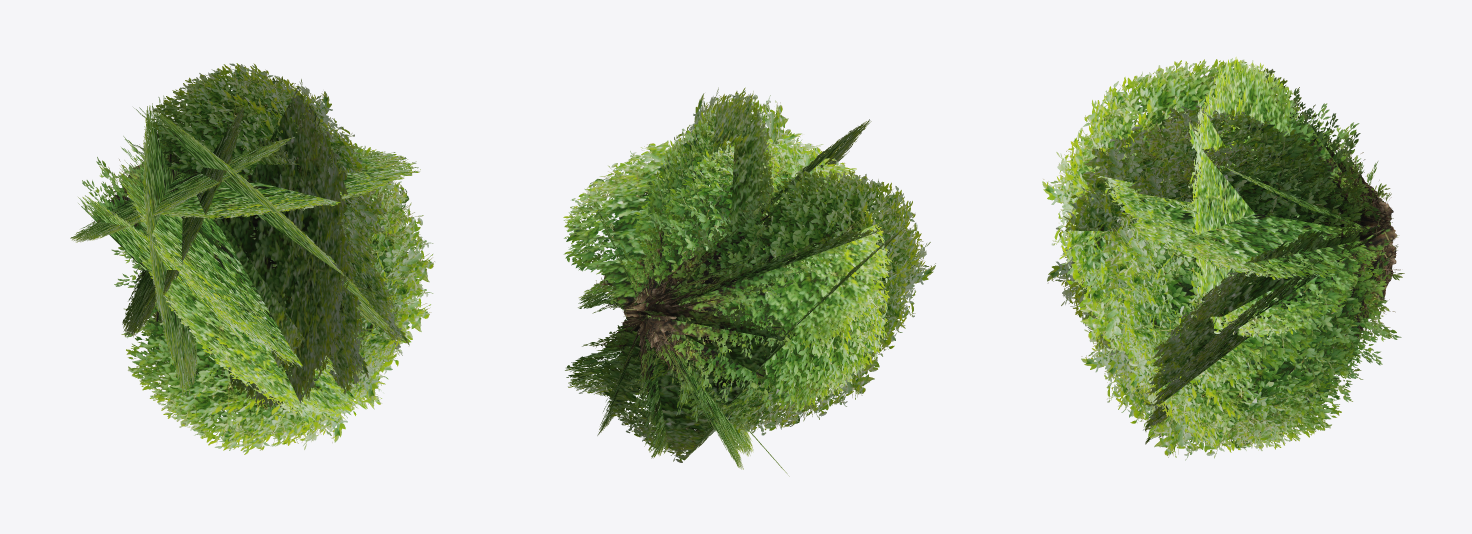
Rendered from Bush_Diana.obj.
3 views of the same model, side by side, from view 1: azimuth 30°, elevation 25°; view 2: azimuth 150°, elevation 25°; view 3: azimuth 270°, elevation 25° (orthographic). The views are drawn at different scales.
Parts seen in each view (by area): view 1: Plane; view 2: Plane; view 3: Plane.
Boxes of the visible parts, x1,y1,x2,y2 form: Plane: (70,63,434,454); Plane: (563,87,935,476); Plane: (1042,57,1404,460).
Bounding box in the file's own units: 240 × 290 × 250.
